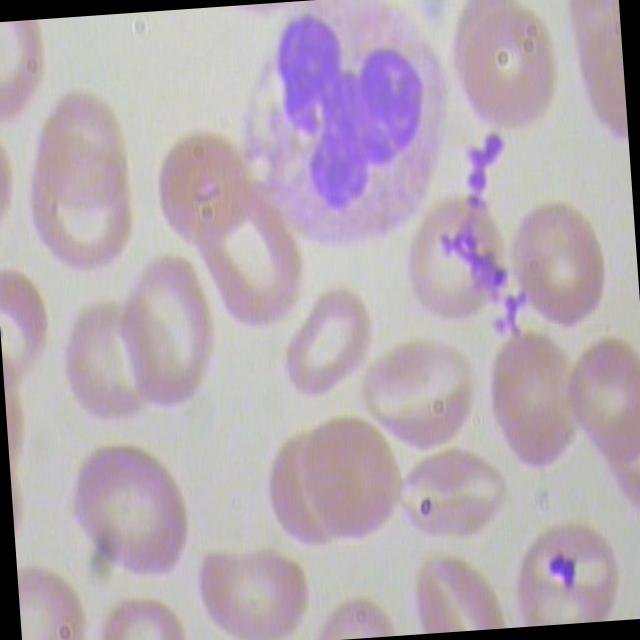RBC: (57, 435, 197, 588), (112, 250, 227, 414), (351, 334, 485, 464), (57, 294, 170, 436), (298, 405, 408, 548), (404, 192, 511, 336), (153, 118, 260, 262), (509, 195, 616, 338), (481, 334, 588, 476), (452, 0, 559, 139), (278, 276, 382, 414), (506, 513, 628, 627), (394, 446, 520, 551), (186, 544, 318, 640), (561, 334, 640, 473)
WBC: (220, 0, 466, 267)
